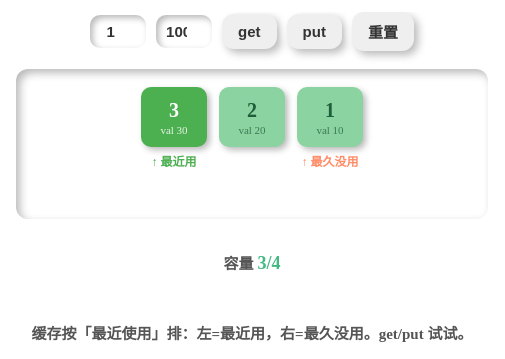
Test: LruViz 缓存互动 › TC-VIZ-LRUVIZ-05 put(4,40) 新键：4 lru-cell、首个 cell 键 4
Replace the text in the number field named "键" with "4" at (118, 32), box [90,15,146,48]
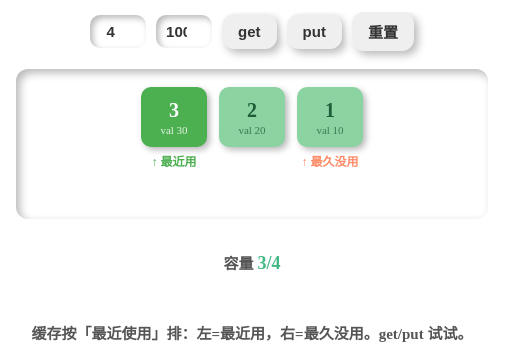
Replace the text in the number field named "值" with "40" at (184, 32), box [156,15,212,48]
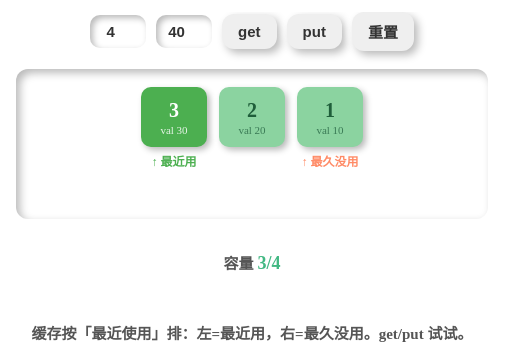
Click the button "put" at (314, 32), box [287,14,342,49]
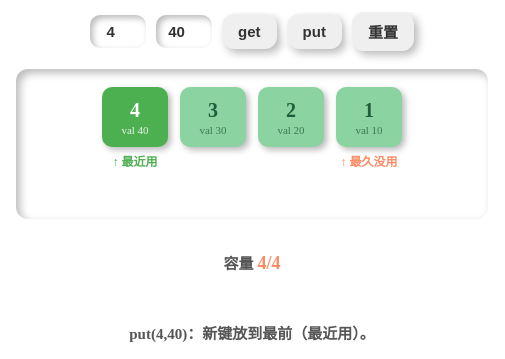
Expected: the number of elements with class "lru-cell" is 4, [102,87,168,147]; [180,87,246,147]; [258,87,324,147]; [336,87,402,147]
